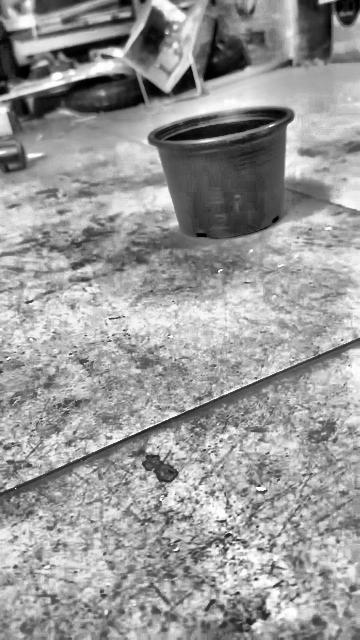pot: (148, 106, 293, 239)
